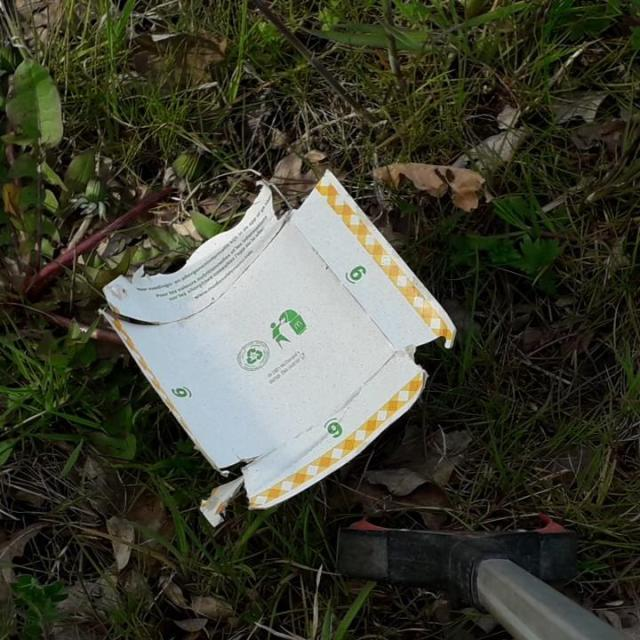Paper: (96, 163, 458, 530)
